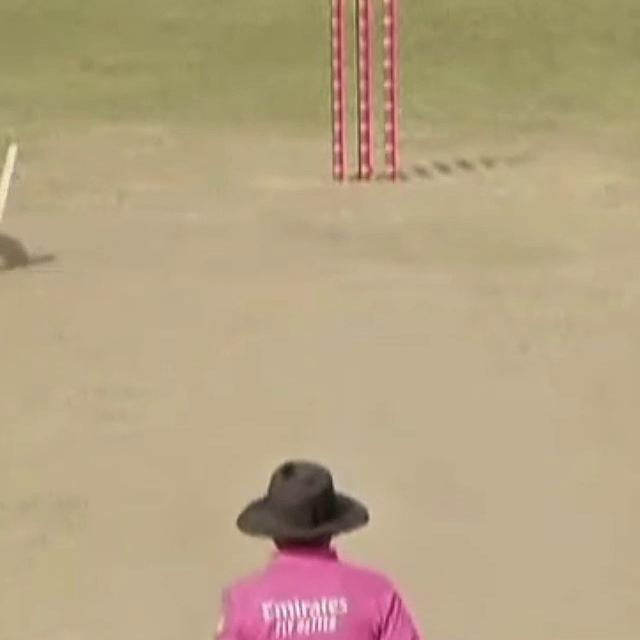umpire: (140, 404, 540, 640)
